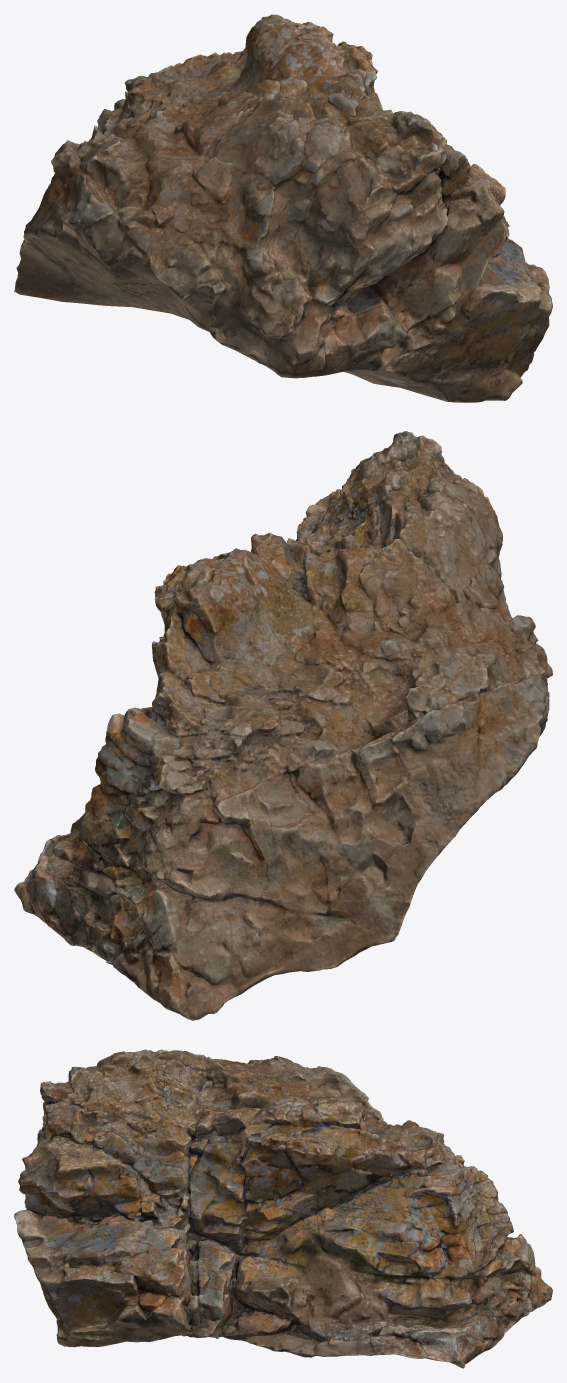
The model's file is boulder-near.glb.
3 renders of one model, top to bottom at view 1: azimuth 30°, elevation 25°; view 2: azimuth 150°, elevation 25°; view 3: azimuth 270°, elevation 25°, orthographic. The views are drawn at different scales.
Visible parts, largest first — view 1: boulder_01; view 2: boulder_01; view 3: boulder_01.
Part boxes in pixels (x1,y1,x2,y2): boulder_01: (14,14,552,402); boulder_01: (14,431,552,1020); boulder_01: (14,1049,552,1368).
Size of the model in its own units: 1.27 by 1 by 1.83.
1 material, 1 textured.
